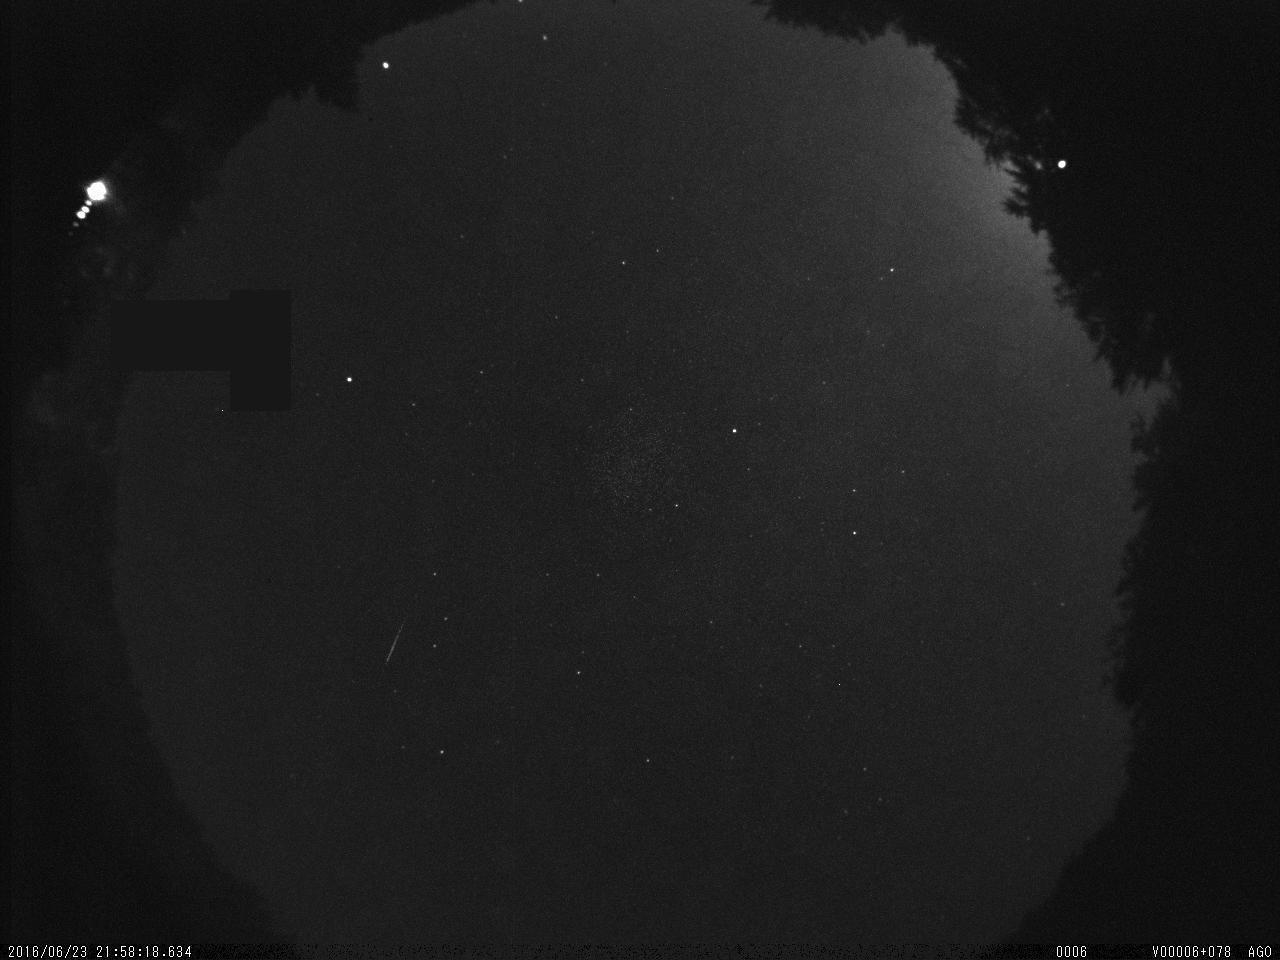Meteor: (378, 608, 416, 682)
